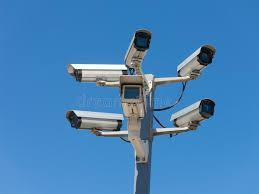tutu: (66, 106, 126, 138), (169, 95, 219, 133), (65, 59, 130, 85), (177, 44, 218, 83), (119, 73, 149, 126), (121, 26, 153, 71)
